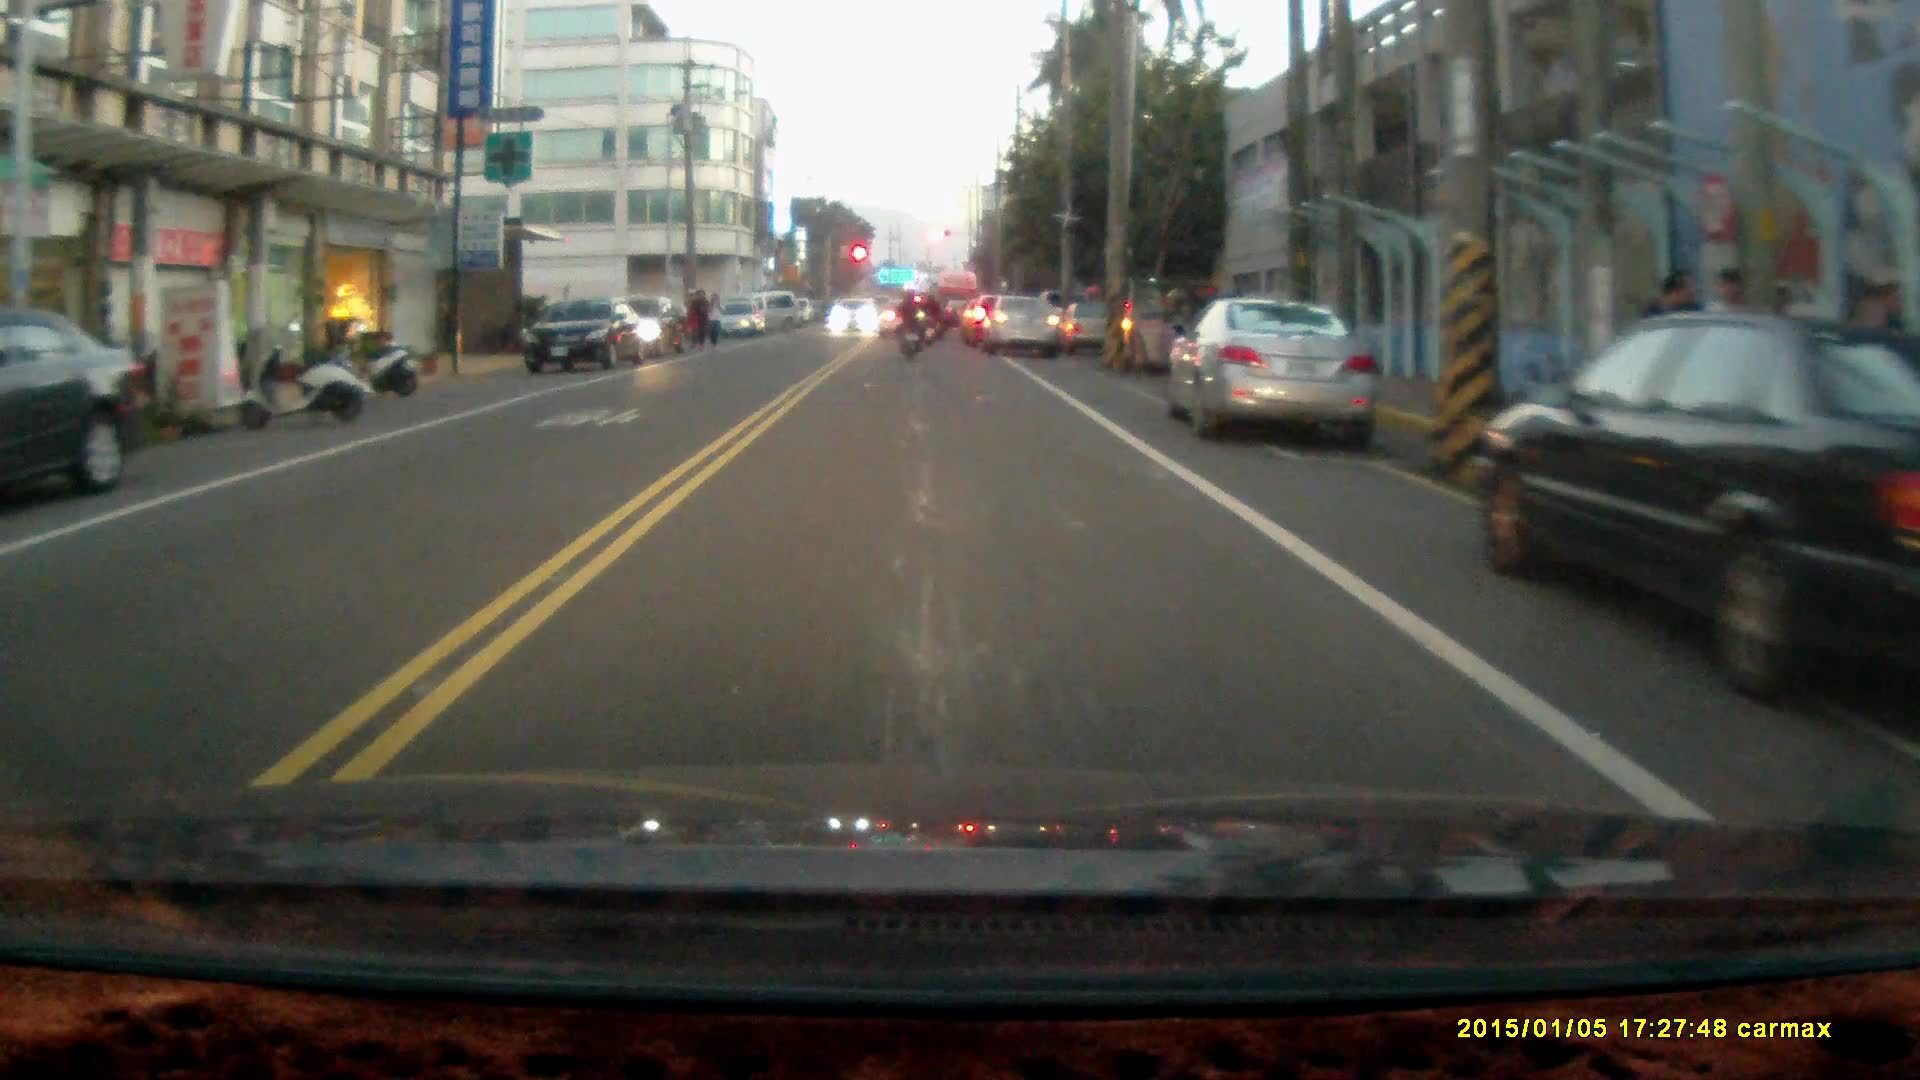pedestrian: (685, 285, 708, 350), (703, 291, 723, 351)
rider: (893, 286, 925, 362)
vehicle: (1475, 308, 1920, 680), (1163, 301, 1377, 438), (1, 309, 142, 506), (519, 297, 651, 380), (979, 290, 1061, 353), (825, 295, 880, 340)
